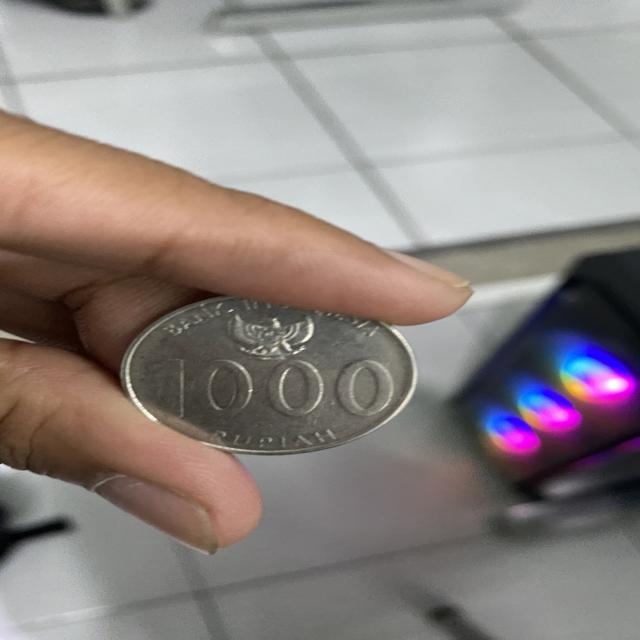1000-angklung: (120, 296, 416, 454)
